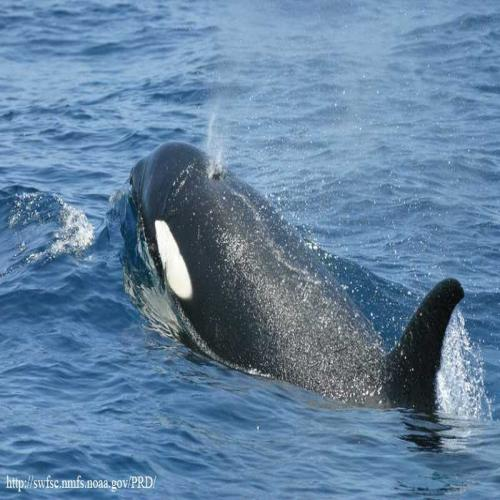killer_whale-endangered: (107, 103, 467, 443)
